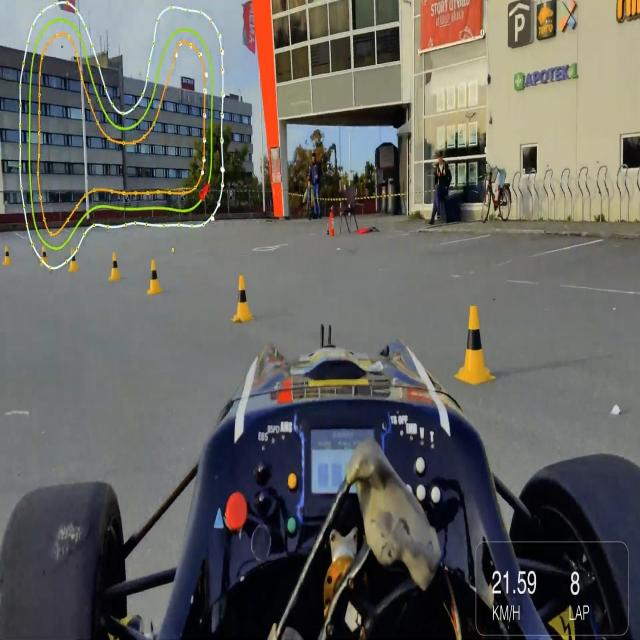yellow_cone: (454, 306, 497, 386), (231, 274, 253, 323), (146, 259, 162, 294), (109, 252, 121, 282), (68, 248, 79, 273), (40, 245, 49, 267), (4, 246, 12, 266)
